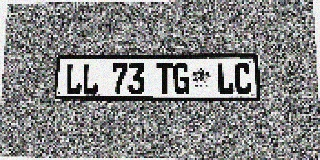3: (128, 63, 144, 94)
7: (111, 63, 128, 94)
C: (234, 63, 252, 94)
G: (173, 63, 190, 94)
L: (65, 63, 82, 94), (82, 63, 99, 94), (217, 63, 234, 94)
T: (156, 63, 173, 94)
